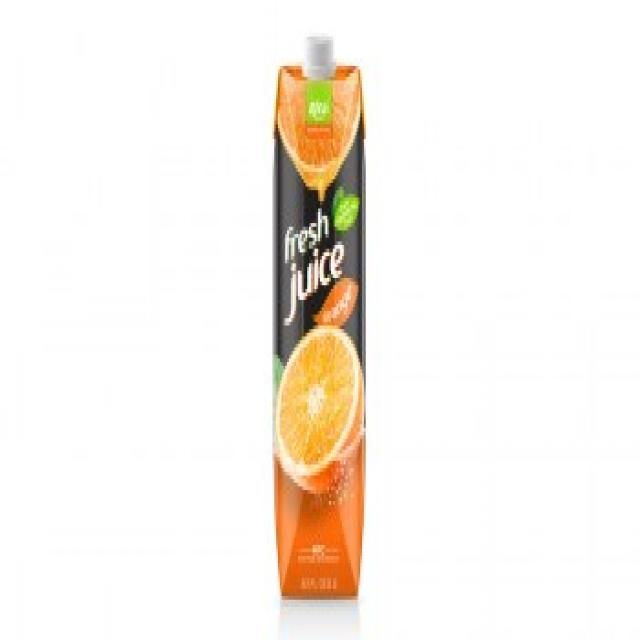non_white_jug: (264, 7, 376, 596)
